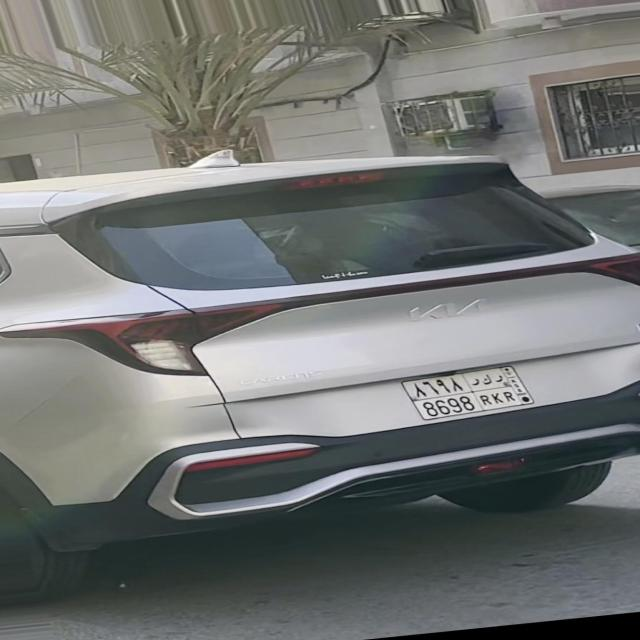Car-plate: (391, 357, 552, 431)
